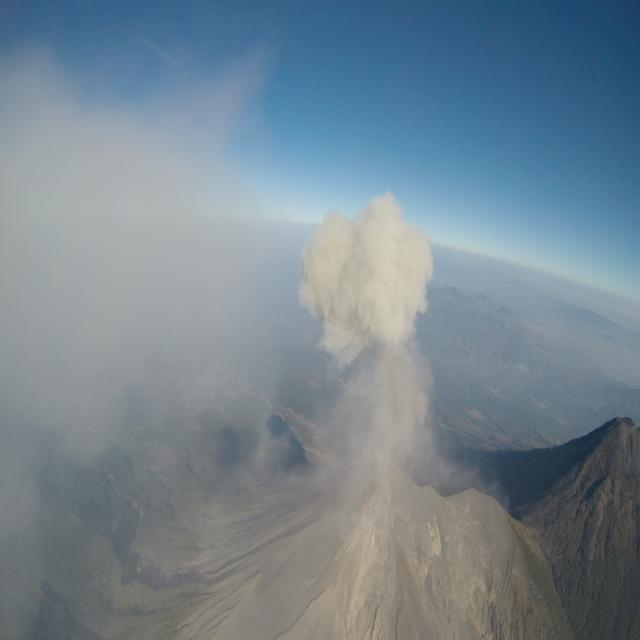Plume: (1, 46, 270, 440), (299, 184, 441, 360)
